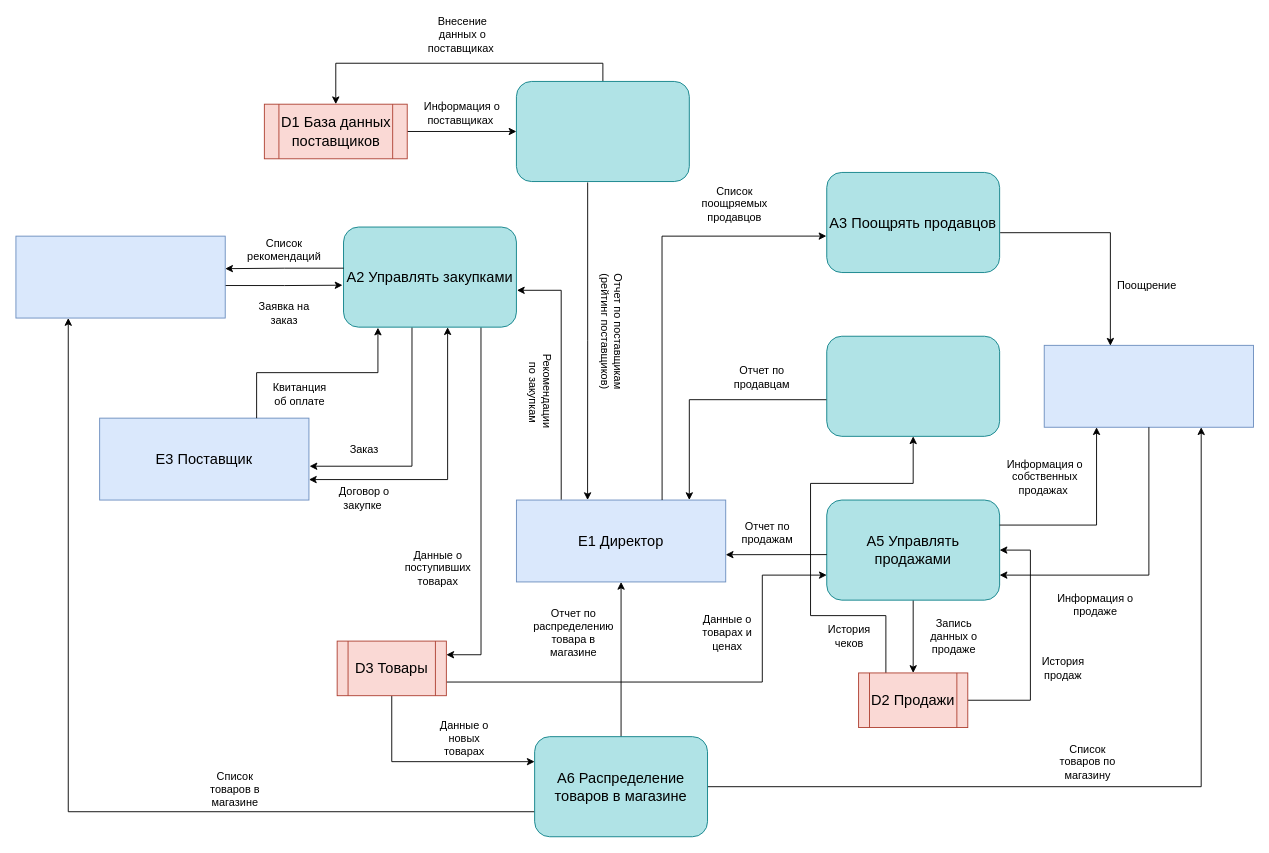
Some shapes in this 1269 by 853 pixel diagram are drawn without their labels. Each missing label, with the box of its shape:
A1 Управлять поставщиками: (516, 81, 689, 182)
A4 Вести анализ работы продавцов: (826, 335, 1000, 436)
E2 Закупщик: (15, 235, 225, 318)
E4 Продавец: (1043, 344, 1254, 427)
